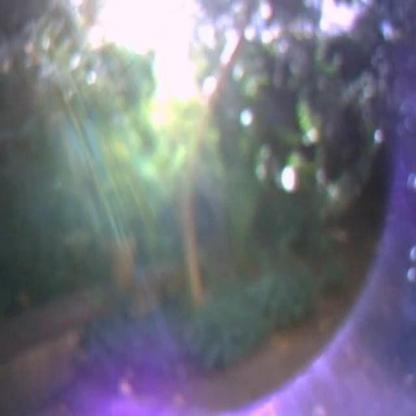other: (80, 6, 214, 158)
